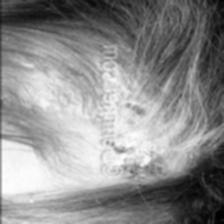Non-Cancerous Skin Condition: (98, 112, 162, 180)
